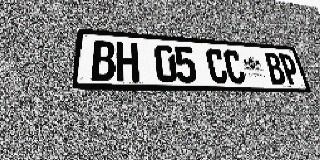0: (154, 44, 177, 83)
5: (174, 46, 198, 83)
B: (91, 40, 115, 81), (263, 52, 287, 85)
C: (222, 49, 247, 84), (205, 48, 229, 84)
H: (116, 42, 139, 82)
P: (278, 53, 302, 85)
